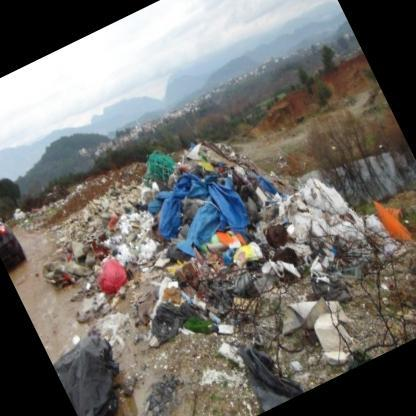Garbage: (182, 176, 402, 411), (45, 204, 237, 384), (137, 141, 282, 312), (46, 184, 172, 308), (42, 316, 156, 415), (255, 184, 360, 289), (353, 191, 415, 260)
